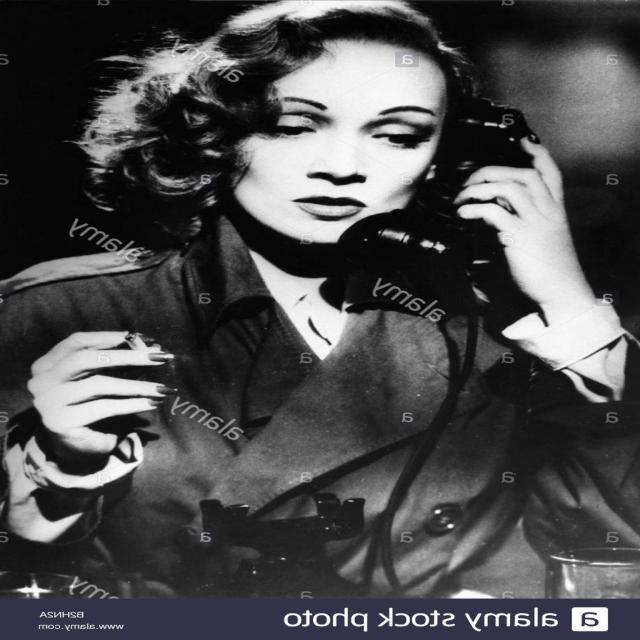smoking: (25, 6, 460, 466)
